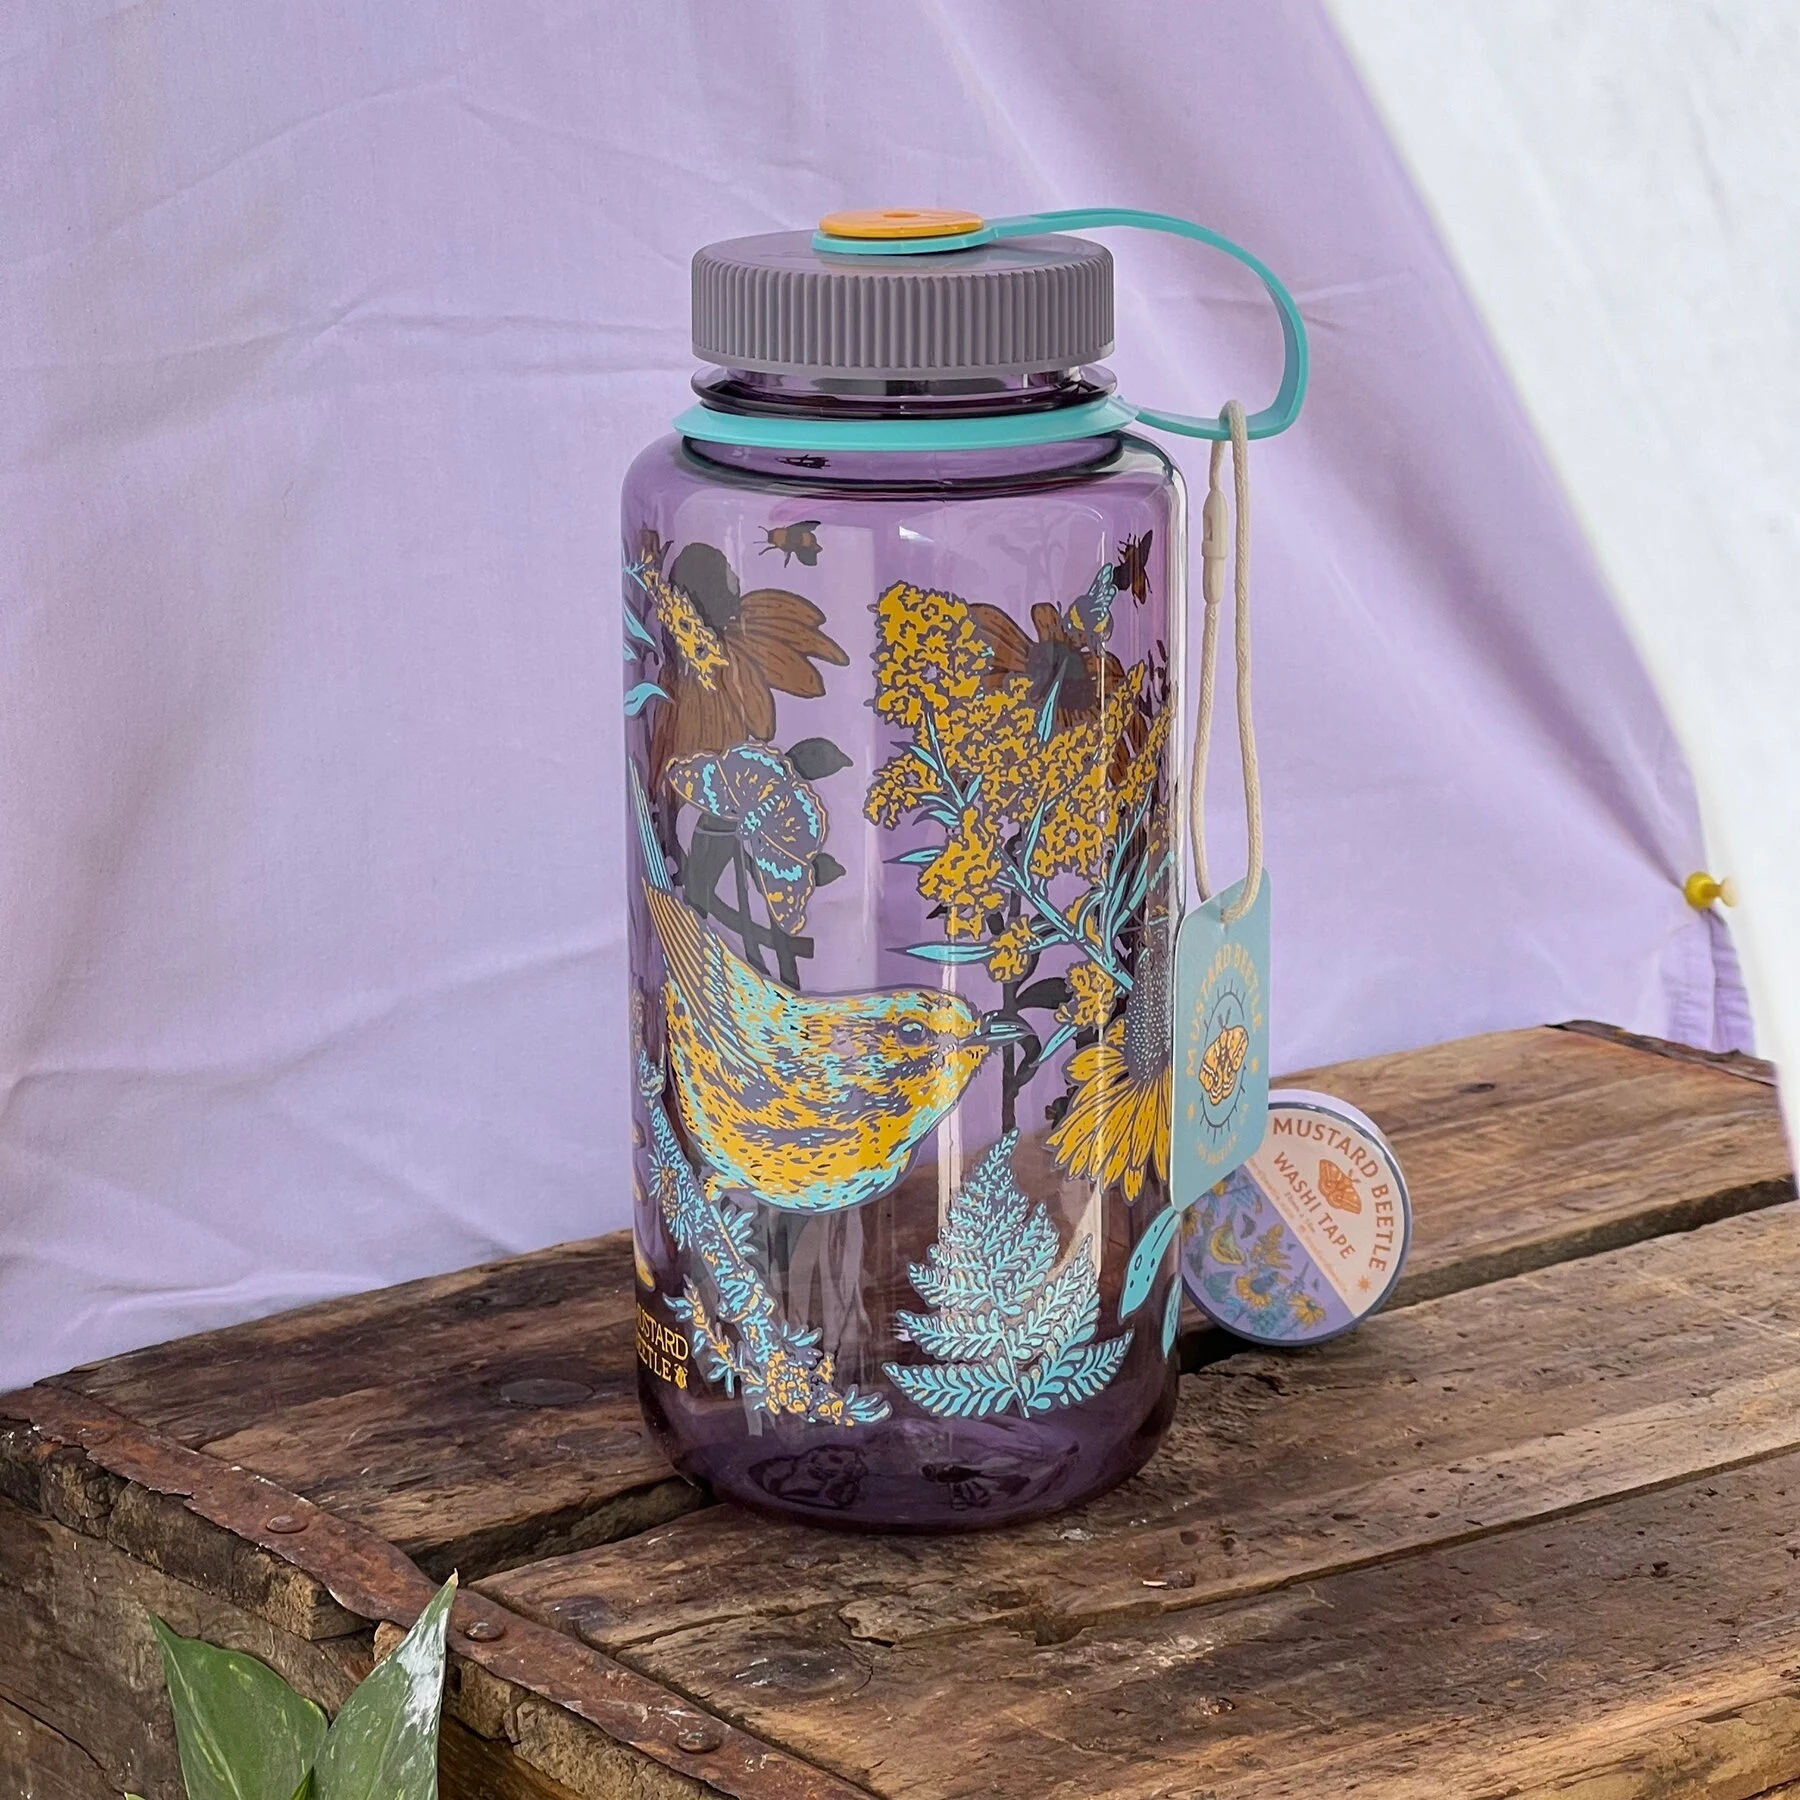bottle: (618, 209, 1309, 1540)
